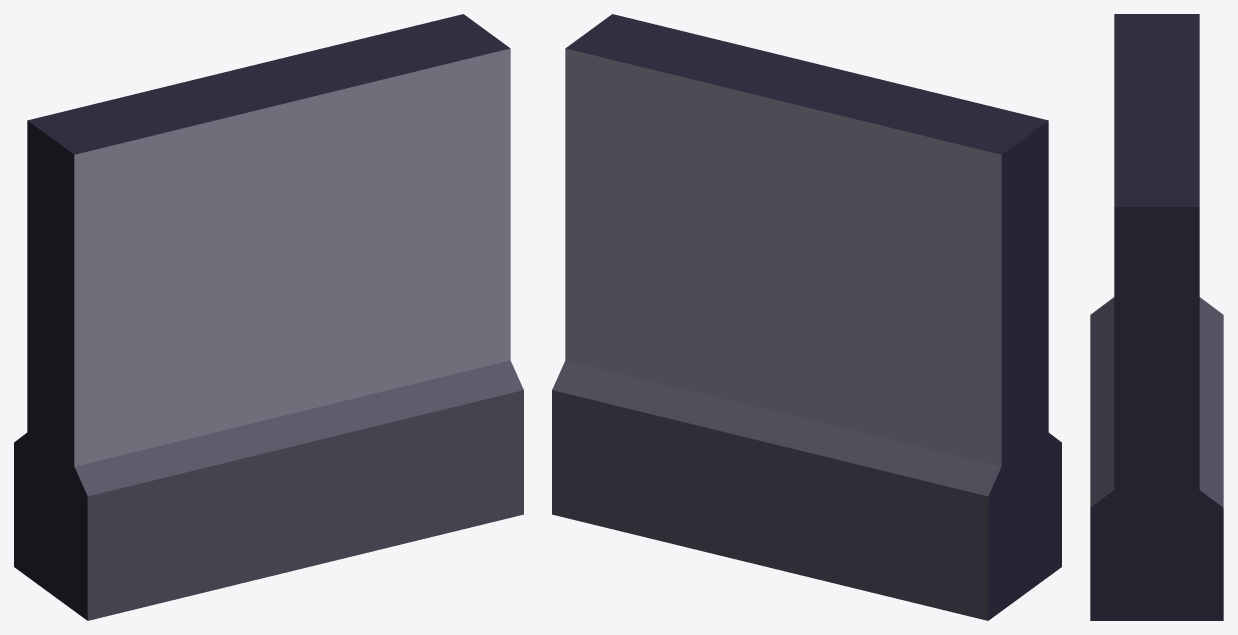
The model's file is WallNeutral.fbx.
3 renders of one model, left to right at view 1: azimuth 30°, elevation 25°; view 2: azimuth 150°, elevation 25°; view 3: azimuth 270°, elevation 25°, orthographic. The views are drawn at different scales.
Parts seen in each view (by area): view 1: WallNeutral; view 2: WallNeutral; view 3: WallNeutral.
Boxes of the visible parts, box(x1,y1,x2,y2) form: WallNeutral: box(14, 14, 523, 620); WallNeutral: box(552, 14, 1061, 620); WallNeutral: box(1090, 14, 1223, 620).
Size of the model in its own units: 200 by 200 by 58.52.
